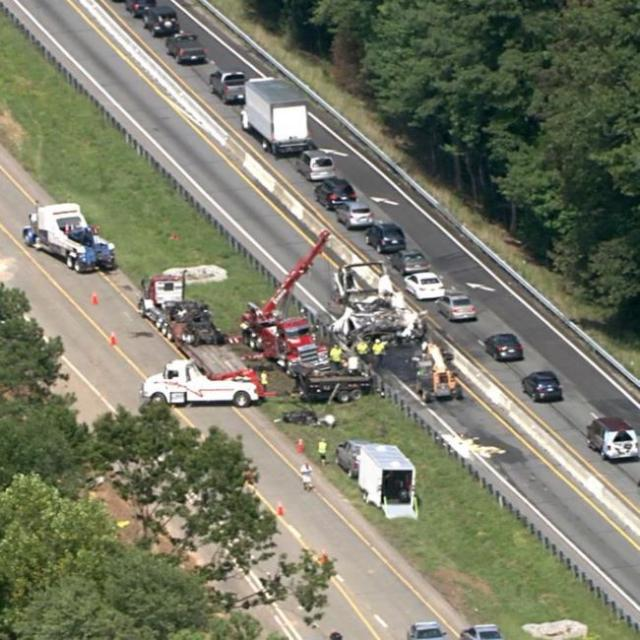traffic_incident: (307, 256, 438, 348)
